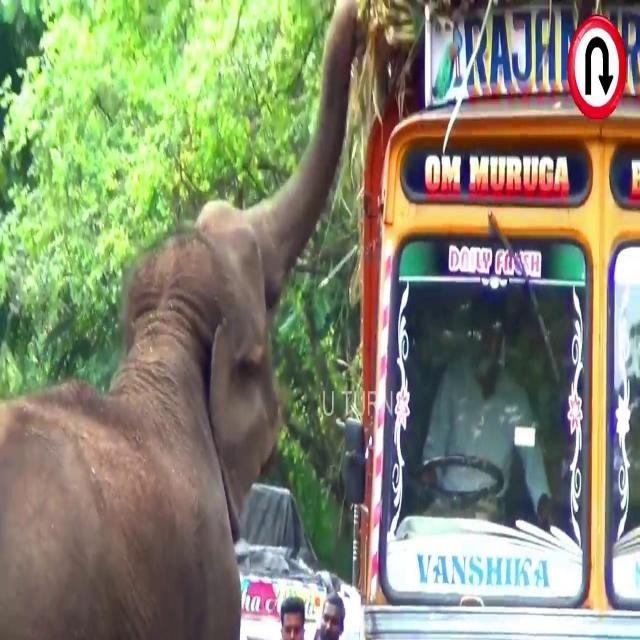Elephant: (1, 4, 365, 631)
